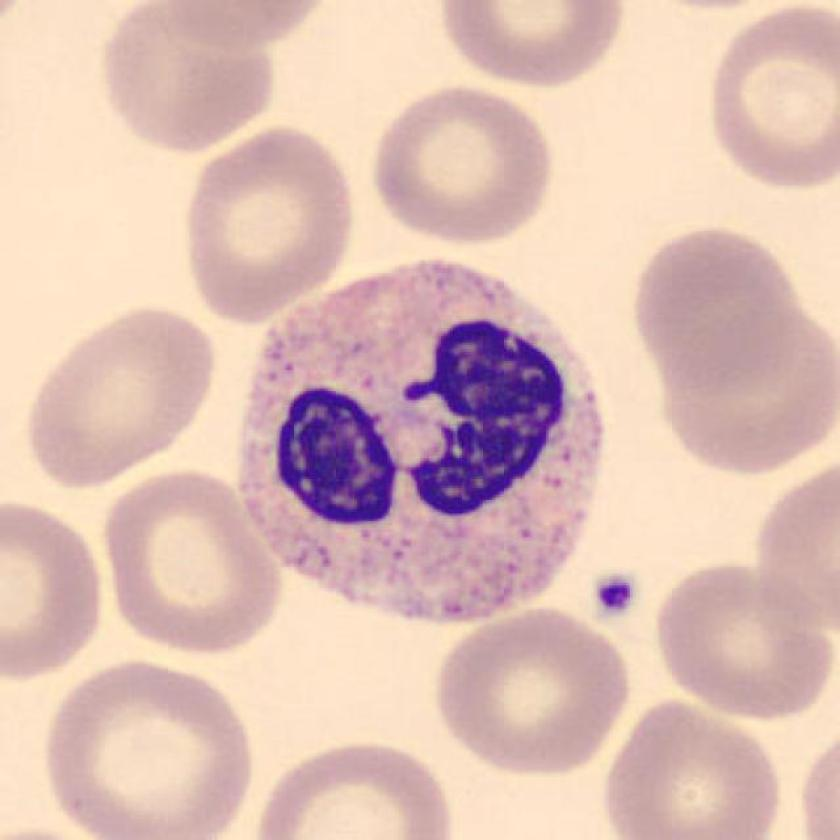neutrophil: (244, 260, 598, 621)
